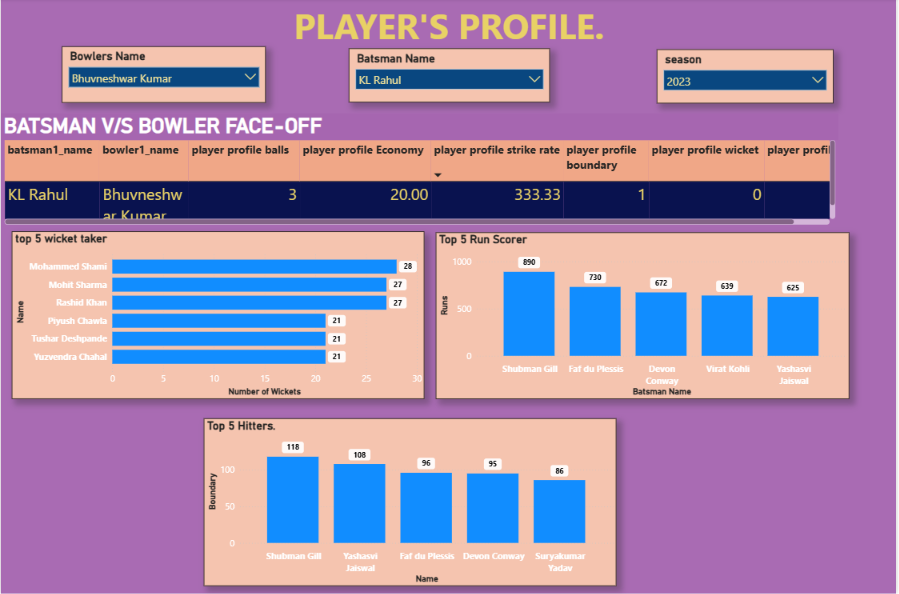

This screenshot's page, from the dashboard's own definition file:
{"tool":"powerbi","page":{"name":"PLAYER PROFILE","canvas":[1500,1000],"ordinal":1},"visuals":[{"type":"textbox","box":[480.6,0,540.3,92.5],"z":0},{"type":"slicer","fields":{"Values":["all_season_details.season"]},"box":[1098.6,85.7,295.7,90],"z":1000},{"type":"slicer","fields":{"Values":["all_season_details.batsman1_name"]},"box":[582.9,84.3,337.1,90],"z":2000},{"type":"slicer","fields":{"Values":["all_season_details.bowler1_name"]},"box":[101.5,80.6,341.8,94],"z":3000},{"type":"tableEx","title":"BATSMAN V/S BOWLER FACE-OFF","fields":{"Values":["all_season_details.batsman1_name","all_season_details.bowler1_name","all_season_details.player profile balls","all_season_details.player profile Economy","all_season_details.player profile strike rate","all_season_details.player profile  boundary","all_season_details.player profile wicket","all_season_details.player profile runs"]},"box":[0,192,1403,191],"z":4000},{"type":"clusteredBarChart","title":"top 5 wicket taker ","fields":{"Category":["all_season_details.bowler1_name"],"Y":["all_season_bowling_card.top 5 wicket taker"]},"box":[19.1,391.2,691.2,280.9],"z":6000},{"type":"columnChart","title":"Top 5 Run Scorer","fields":{"Category":["all_season_details.batsman1_name"],"Y":["all_season_batting_card.Top5 batsman"]},"box":[729,392,693,279],"z":7000},{"type":"columnChart","title":"Top 5 Hitters.","fields":{"Category":["all_season_details.batsman1_name"],"Y":["all_season_batting_card.Top 5 Hitters"]},"box":[339.7,702.9,691.2,280.9],"z":8000}]}

Visuals, with their boxes in screenshot pixels (x1, y1, x2, y2), scaled from the page's 1500x1000 canvas onto the 899x594 screenshot:
textbox: 288, 0, 612, 55
slicer - all_season_details.season: 658, 51, 836, 104
slicer - all_season_details.batsman1_name: 349, 50, 551, 104
slicer - all_season_details.bowler1_name: 61, 48, 266, 104
"BATSMAN V/S BOWLER FACE-OFF" tableEx: 0, 114, 841, 228
"top 5 wicket taker " clusteredBarChart: 11, 232, 426, 399
"Top 5 Run Scorer" columnChart: 437, 233, 852, 399
"Top 5 Hitters." columnChart: 204, 418, 618, 584
